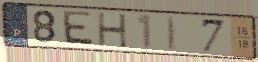1: (135, 13, 152, 52)
7: (198, 17, 229, 54)
8: (32, 8, 58, 45)
E: (62, 9, 96, 48)
H: (95, 12, 129, 49)
I: (165, 15, 178, 53)
